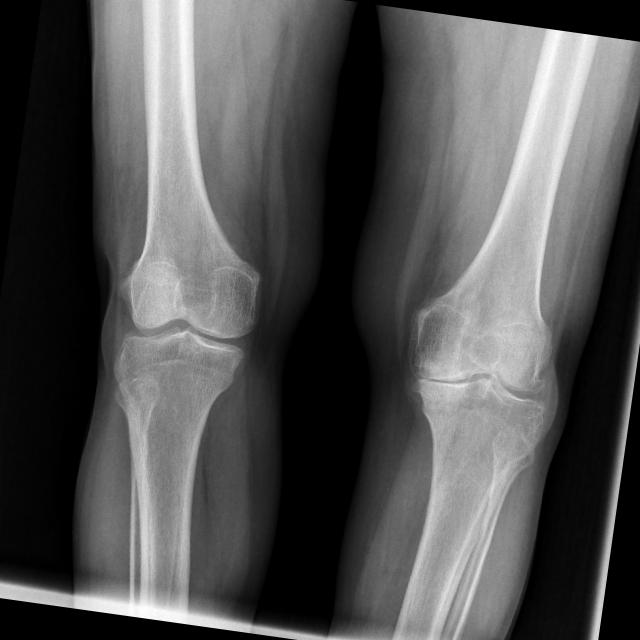Knee: (396, 308, 569, 459), (111, 251, 268, 407)
